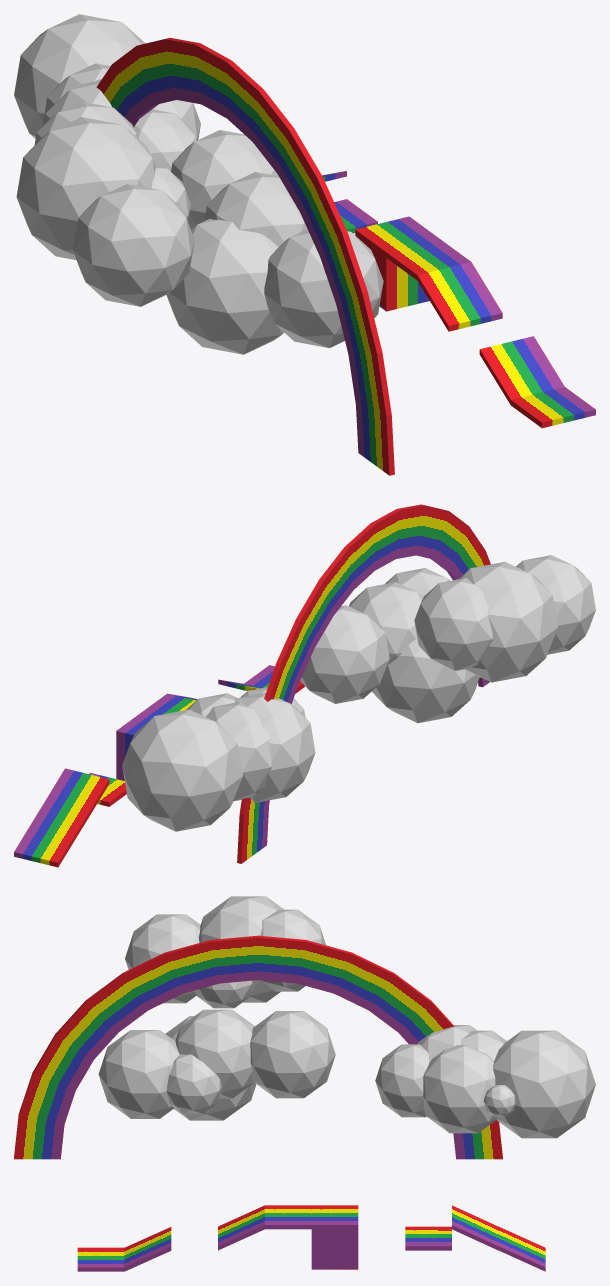
The model's file is tileset.dae.
3 views of the same model, one above another, from view 1: azimuth 30°, elevation 25°; view 2: azimuth 150°, elevation 25°; view 3: azimuth 270°, elevation 25° (orthographic). The views are drawn at different scales.
Visible parts, largest first — view 1: Cloud 1, Cloud 3, Rainbow, Cloud 2, LR Slope 1, Box, LR Slope 2, Lower Floor, Higher Floor, Standard Floor; view 2: Cloud 2, Cloud 3, Cloud 1, Rainbow, RL Slope 2, RL Slope 1, Box, Higher Floor, Standard Floor; view 3: Rainbow, Cloud 1, Cloud 2, Cloud 3, Box, Higher Floor, Lower Floor, LR Slope 2, Standard Floor, RL Slope 1, RL Slope 2, LR Slope 1.
Boxes of the visible parts, x1,y1,x2,y2 form: Cloud 1: (166, 130, 383, 354); Cloud 3: (16, 101, 194, 306); Rainbow: (96, 37, 394, 475); Cloud 2: (14, 14, 200, 171); LR Slope 1: (417, 262, 502, 331); Box: (355, 216, 439, 311); LR Slope 2: (479, 336, 564, 404); Lower Floor: (511, 387, 595, 428); Higher Floor: (386, 239, 470, 280); Standard Floor: (334, 199, 377, 233); Cloud 2: (122, 687, 315, 831); Cloud 3: (414, 555, 595, 682); Cloud 1: (300, 568, 479, 723); Rainbow: (237, 504, 490, 863); RL Slope 2: (14, 810, 83, 867); RL Slope 1: (40, 768, 109, 825); Box: (116, 712, 155, 780); Higher Floor: (142, 693, 195, 715); Standard Floor: (89, 773, 126, 806); Rainbow: (14, 935, 502, 1159); Cloud 1: (98, 1009, 335, 1120); Cloud 2: (375, 1025, 595, 1138); Cloud 3: (125, 896, 325, 1008); Box: (311, 1205, 358, 1269); Higher Floor: (264, 1205, 311, 1229); Lower Floor: (77, 1247, 124, 1271); LR Slope 2: (124, 1227, 171, 1271); Standard Floor: (405, 1226, 451, 1250); RL Slope 1: (452, 1205, 498, 1250); RL Slope 2: (499, 1227, 545, 1271); LR Slope 1: (218, 1205, 264, 1250).
Size of the model in its own units: 8.42 by 12.43 by 5.77.
Materials: 2 (1 with a texture image).
